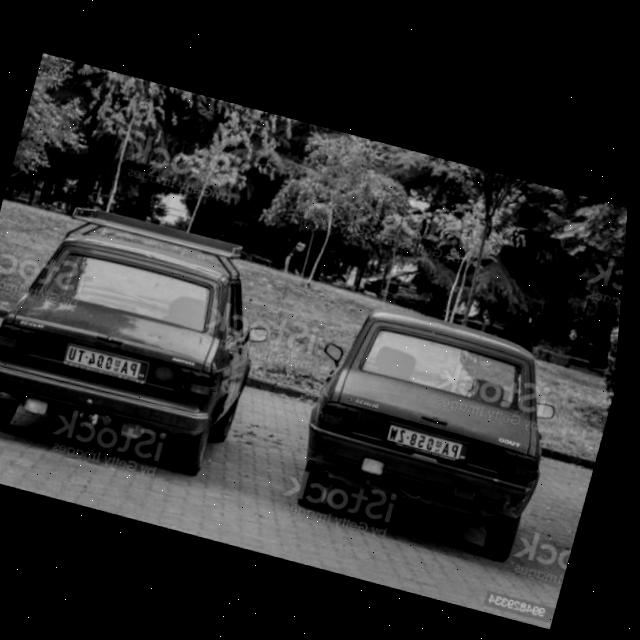license-plates: (62, 345, 148, 384), (386, 424, 468, 463)
